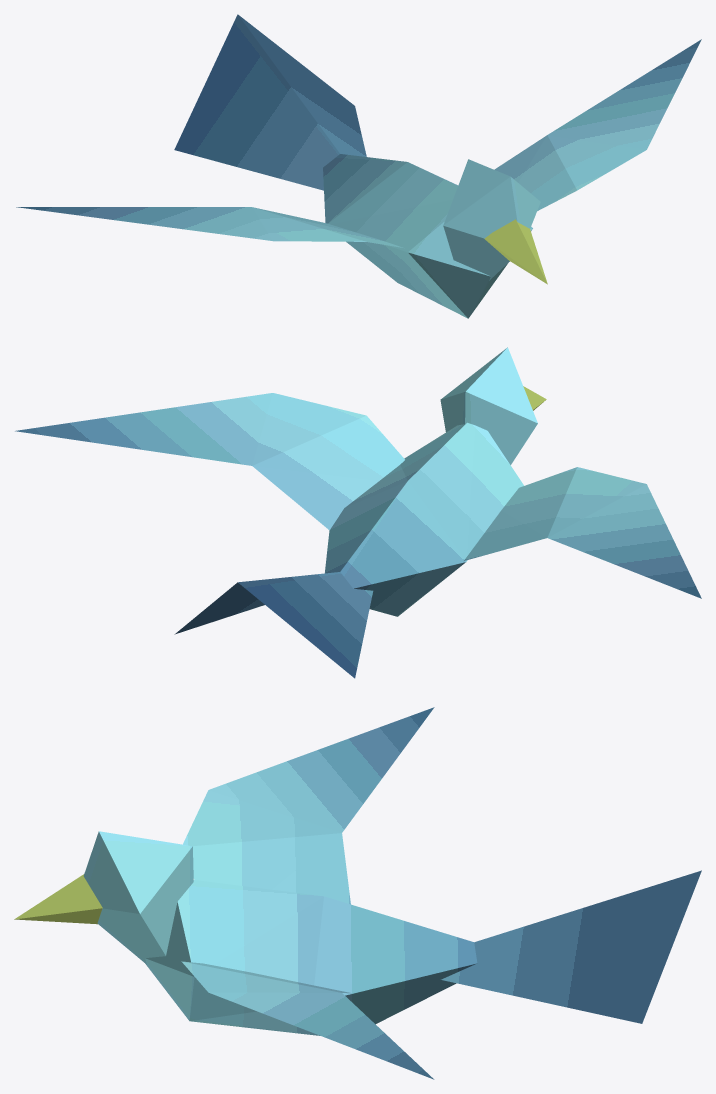
File: bird.obj
The picture shows the model from 3 angles, top to bottom: view 1: azimuth 30°, elevation 25°; view 2: azimuth 150°, elevation 25°; view 3: azimuth 270°, elevation 25°; orthographic projection. The views are drawn at different scales.
Visible parts, largest first — view 1: skl_root, wing_r1, wing_l1; view 2: skl_root, wing_l1, wing_r1; view 3: skl_root, wing_l1, wing_r1.
Part boxes in pixels (left/top/right/bottom): skl_root: left=16, top=14, right=645, bottom=318; wing_r1: left=252, top=154, right=452, bottom=282; wing_l1: left=413, top=39, right=701, bottom=210; skl_root: left=174, top=347, right=701, bottom=678; wing_l1: left=15, top=393, right=407, bottom=507; wing_r1: left=340, top=425, right=646, bottom=588; skl_root: left=14, top=707, right=701, bottom=1035; wing_l1: left=183, top=896, right=434, bottom=1079; wing_r1: left=183, top=790, right=350, bottom=904.
Bounding box in the file's own units: 17.52 × 4.57 × 13.66.
1 material, 1 textured.
